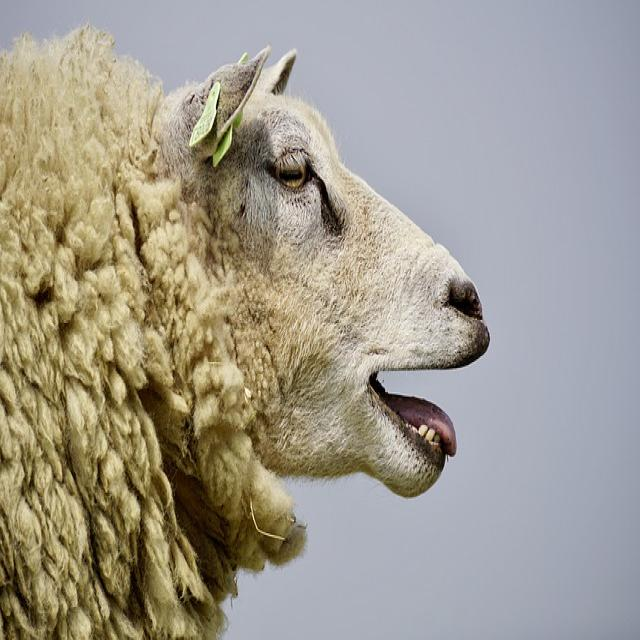goat: (0, 27, 491, 640)
